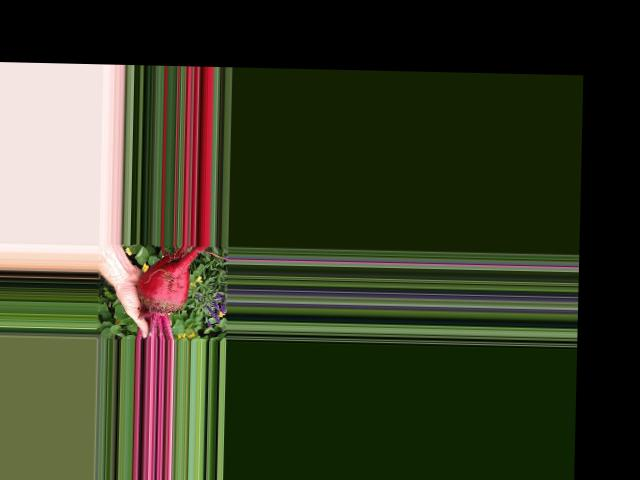beet: (136, 243, 208, 340)
